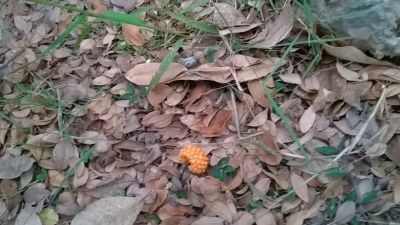eggs: (179, 146, 209, 175)
